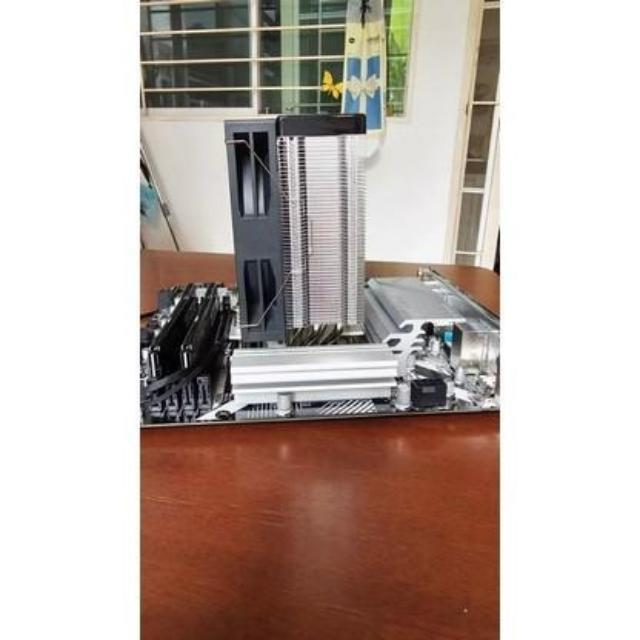CPU_Fan: (225, 92, 370, 337)
